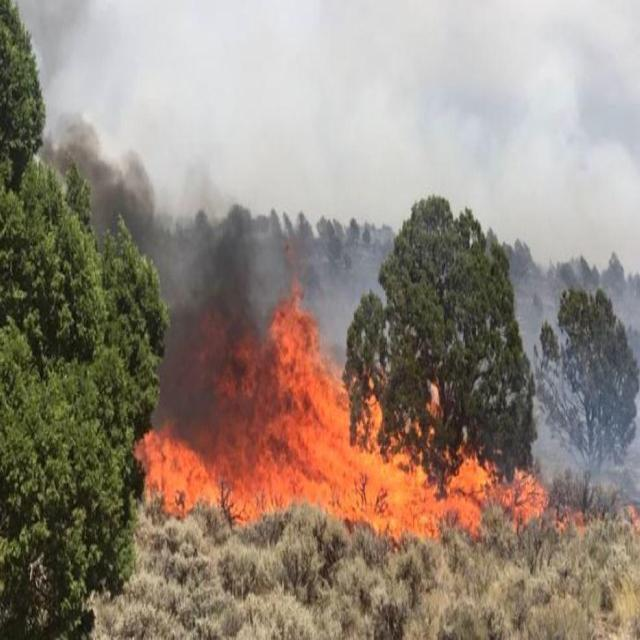Fire: (142, 330, 547, 556)
